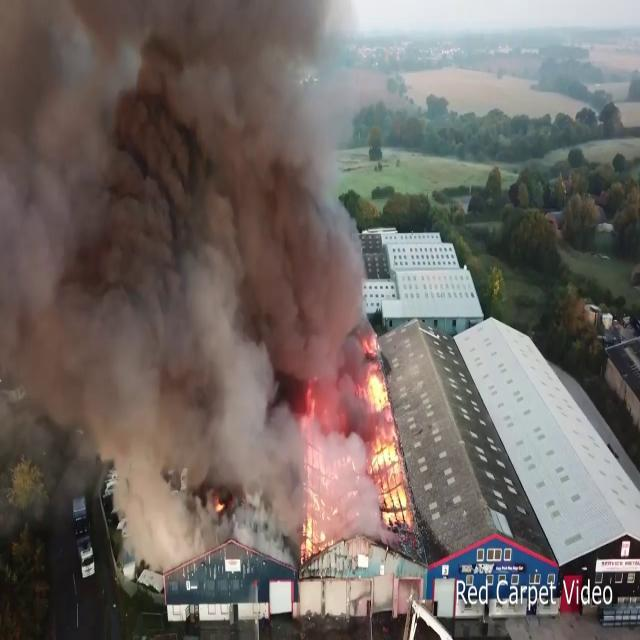Fire: (360, 360, 414, 529), (292, 393, 338, 560)
Smoke: (0, 0, 372, 525)
